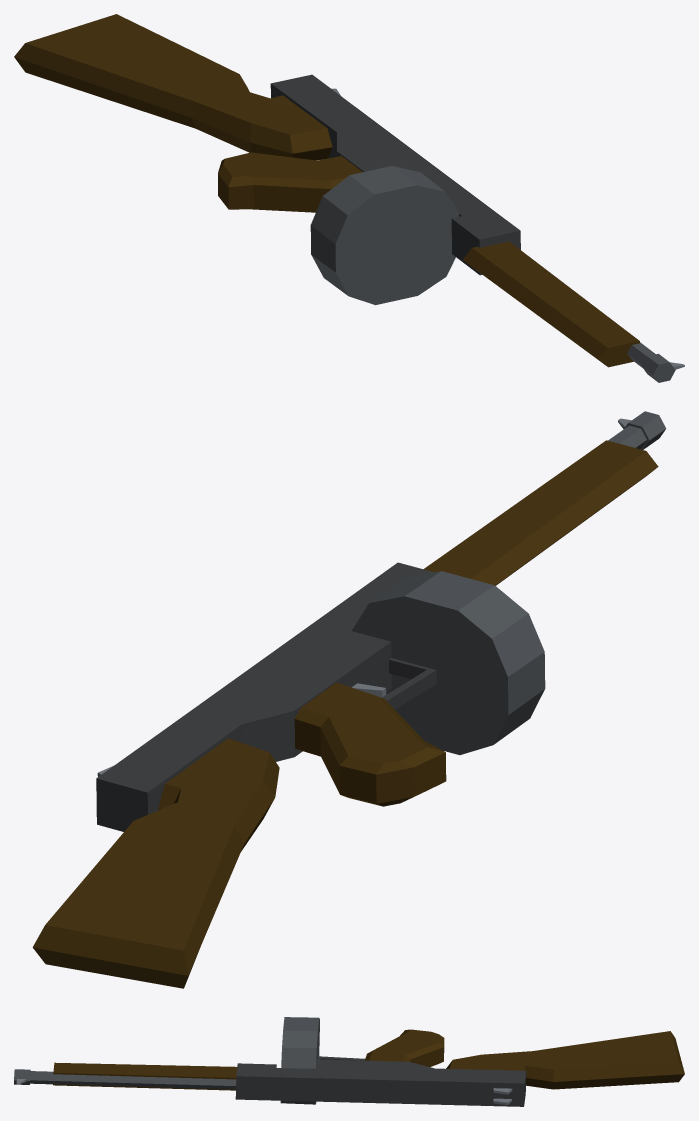
The model's file is tommy.fbx.
3 renders of one model, top to bottom at view 1: azimuth 30°, elevation 25°; view 2: azimuth 150°, elevation 25°; view 3: azimuth 270°, elevation 25°, orthographic. The views are drawn at different scales.
Visible parts, largest first — view 1: tommy; view 2: tommy; view 3: tommy.
Boxes of the visible parts, box(x1,y1,x2,y2) form: tommy: box(14, 14, 684, 382); tommy: box(32, 411, 666, 988); tommy: box(14, 1017, 684, 1106).
Bounding box in the file's own units: 17.55 × 9.51 × 79.08.
